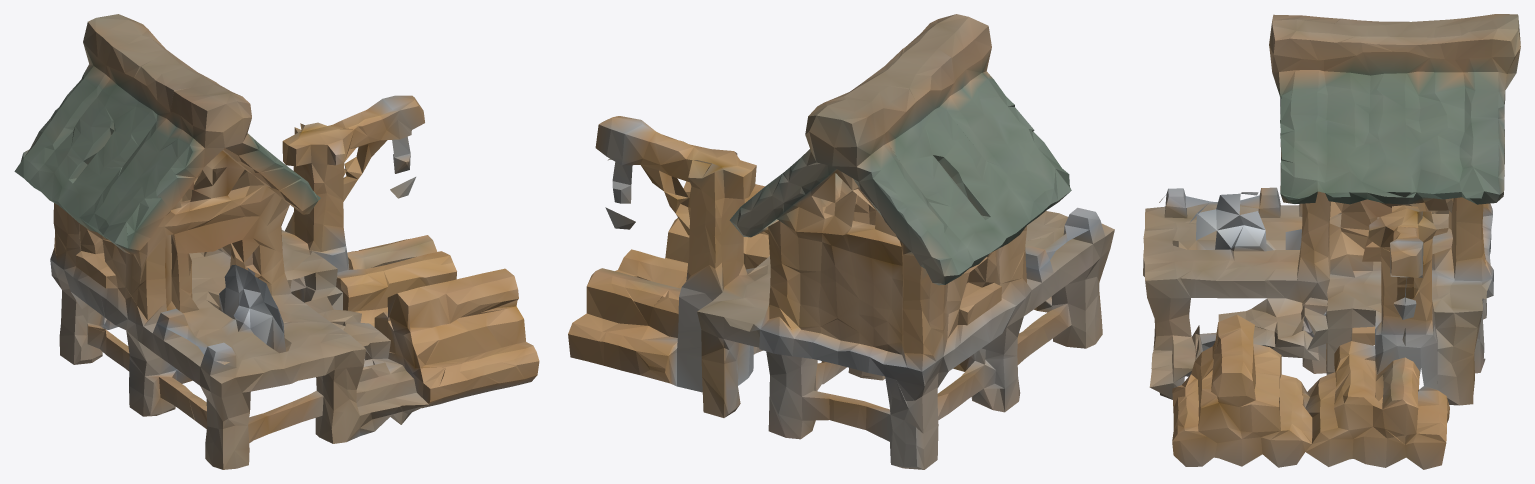
File: building_lumber_mill_lod2.glb
3 views of the same model, side by side, from view 1: azimuth 30°, elevation 25°; view 2: azimuth 150°, elevation 25°; view 3: azimuth 270°, elevation 25° (orthographic). The views are drawn at different scales.
Parts seen in each view (by area): view 1: world; view 2: world; view 3: world.
Boxes of the visible parts, left/top/right/bottom form: world: left=14, top=14, right=539, bottom=469; world: left=568, top=14, right=1114, bottom=469; world: left=1143, top=14, right=1520, bottom=469.
Size of the model in its own units: 1.89 by 1.51 by 1.63.
